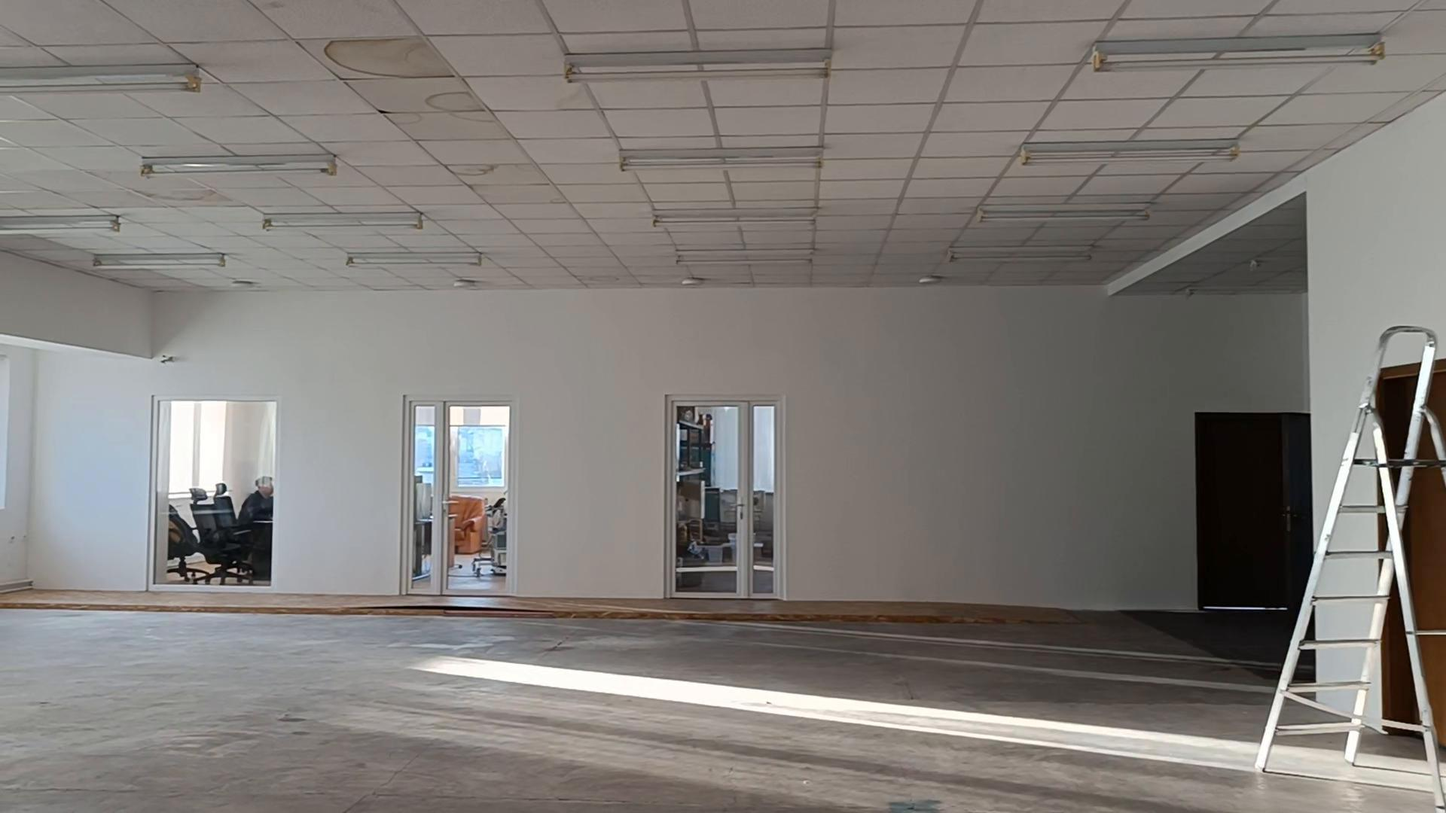ceiling: (0, 0, 1445, 289)
floor: (0, 609, 1432, 812)
wall: (4, 100, 1445, 611)
